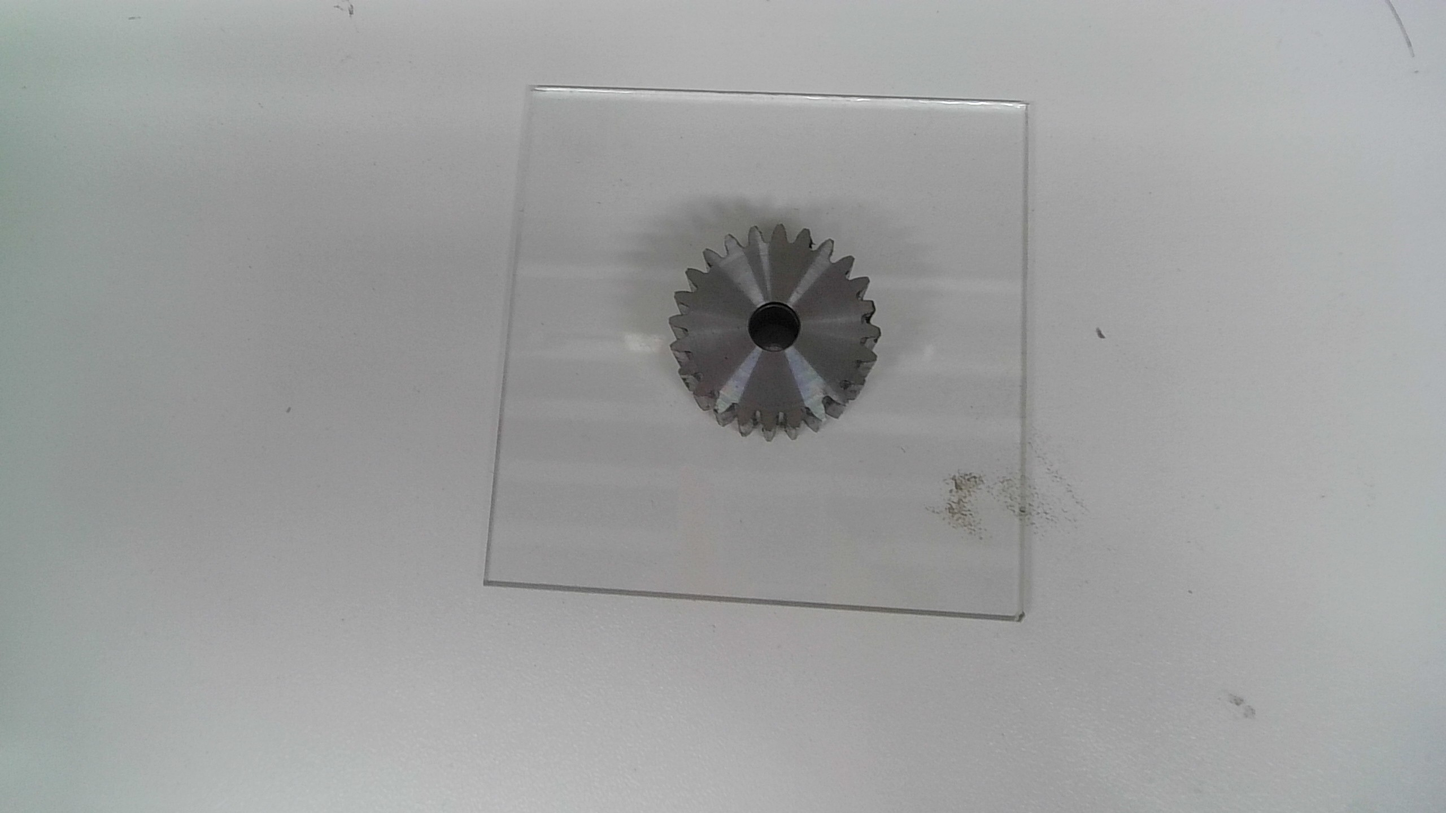gear: (667, 222, 882, 442)
